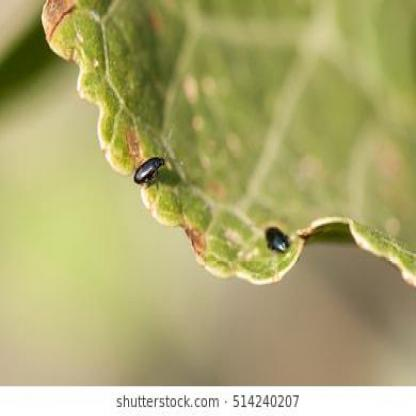beetle: (131, 152, 170, 184), (266, 221, 290, 257)
